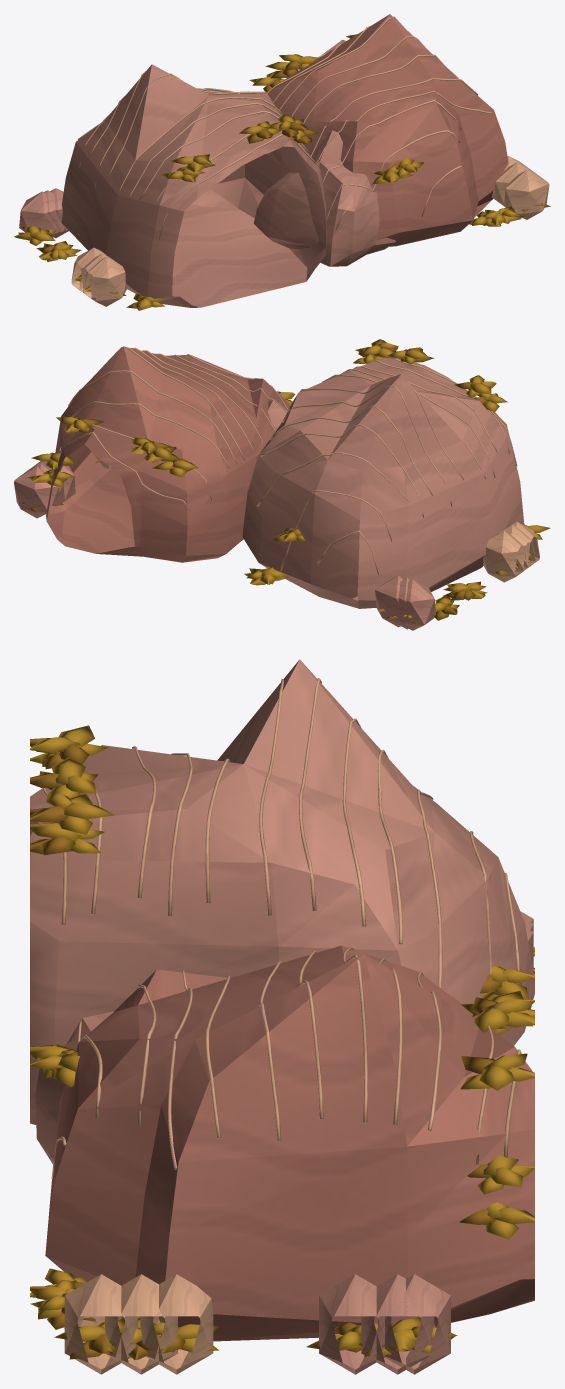
File: PilotRidgeE_2.fbx
3 renders of one model, top to bottom at view 1: azimuth 30°, elevation 25°; view 2: azimuth 150°, elevation 25°; view 3: azimuth 270°, elevation 25°, orthographic. The views are drawn at different scales.
Parts seen in each view (by area): view 1: PilotRidgeE_2__Geometry; view 2: PilotRidgeE_2__Geometry; view 3: PilotRidgeE_2__Geometry.
Boxes of the visible parts, left/top/right/bottom form: PilotRidgeE_2__Geometry: left=14, top=14, right=550, bottom=310; PilotRidgeE_2__Geometry: left=14, top=339, right=550, bottom=630; PilotRidgeE_2__Geometry: left=30, top=659, right=534, bottom=1374.
Bounding box in the file's own units: 4 × 1.74 × 2.
